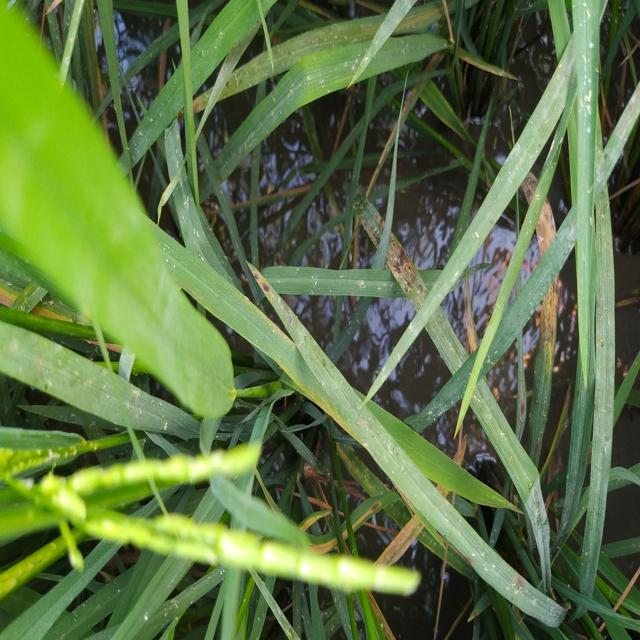insects: (244, 259, 285, 306)
